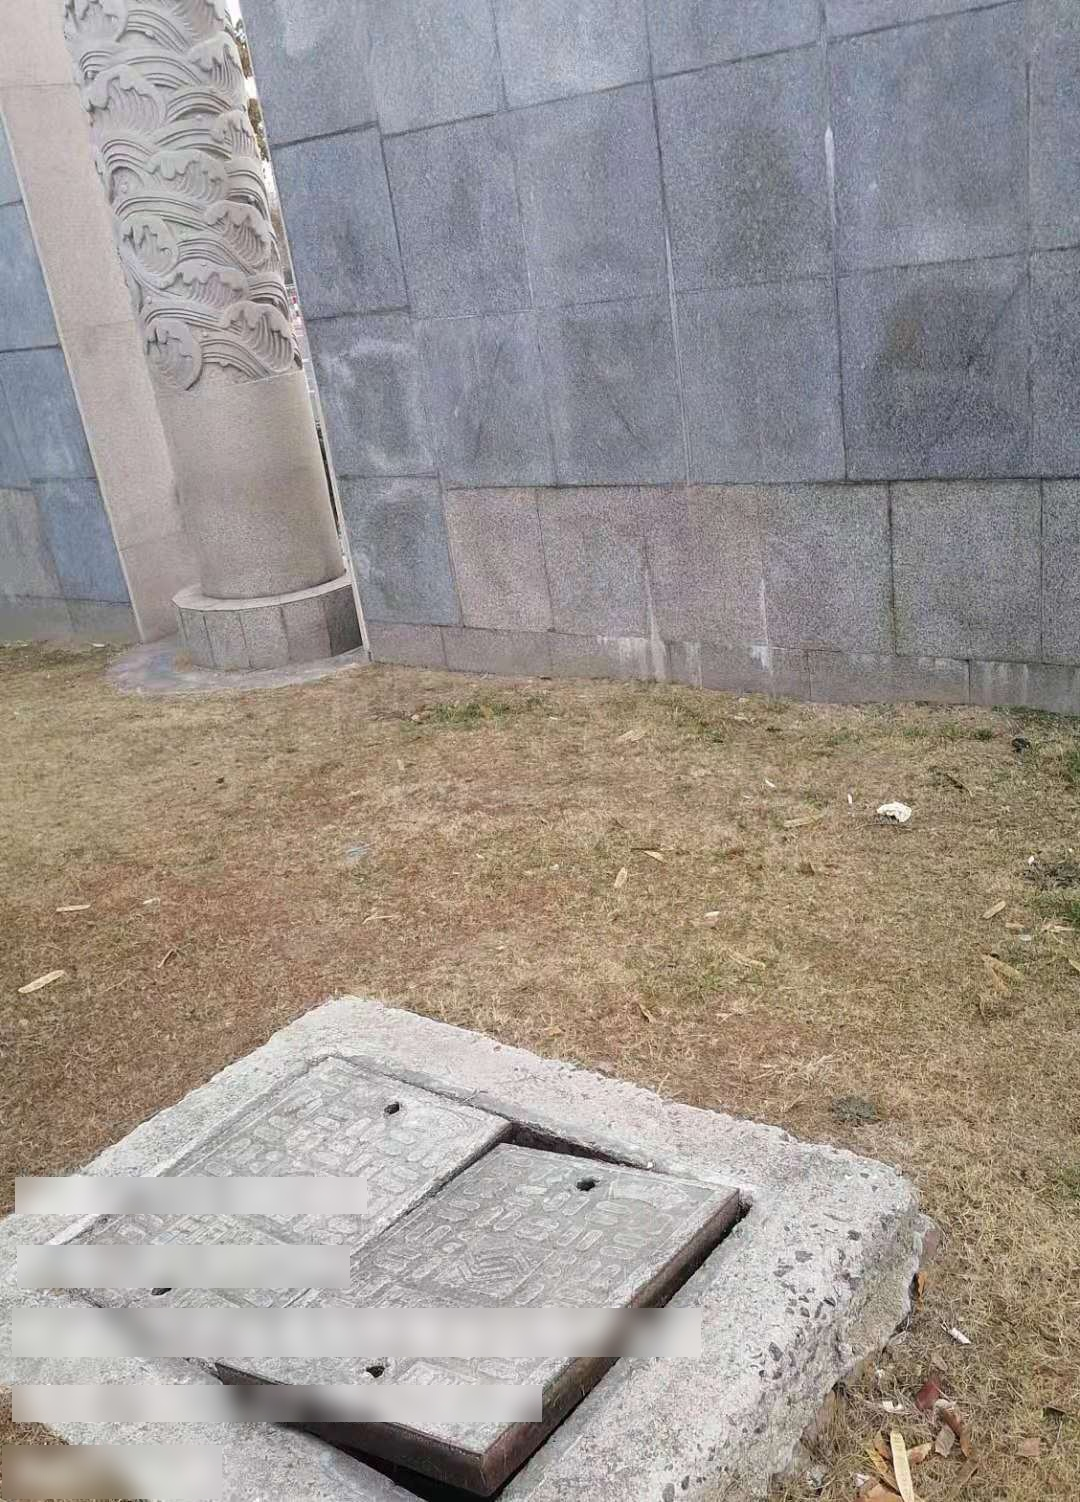well: (21, 1012, 919, 1499)
